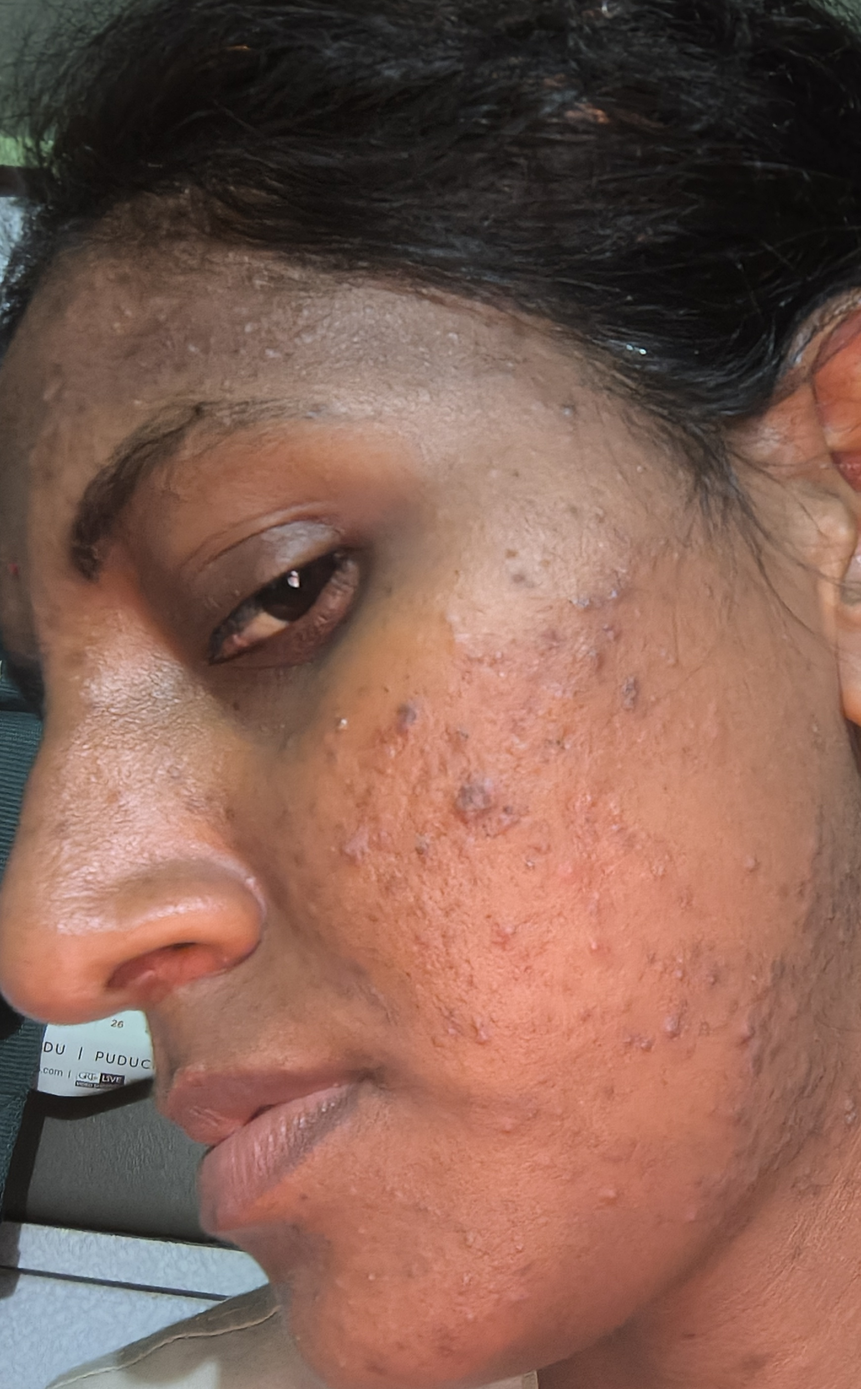closed_comedone: (305, 819, 389, 897), (708, 1000, 774, 1062), (483, 1090, 547, 1145), (570, 922, 637, 973), (50, 638, 117, 686), (169, 311, 220, 366), (729, 833, 779, 888), (589, 1170, 644, 1218), (495, 906, 529, 959)
papule: (442, 757, 536, 831), (655, 996, 713, 1083), (376, 686, 440, 760), (419, 597, 495, 657), (570, 615, 632, 675)
